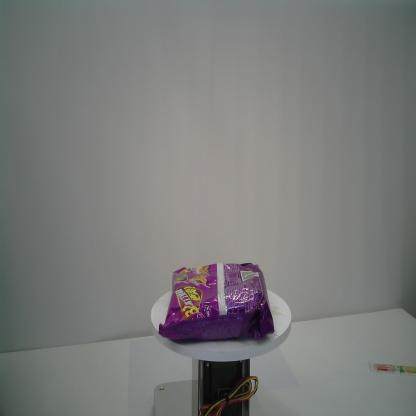Instant Noodles: (158, 262, 275, 342)
